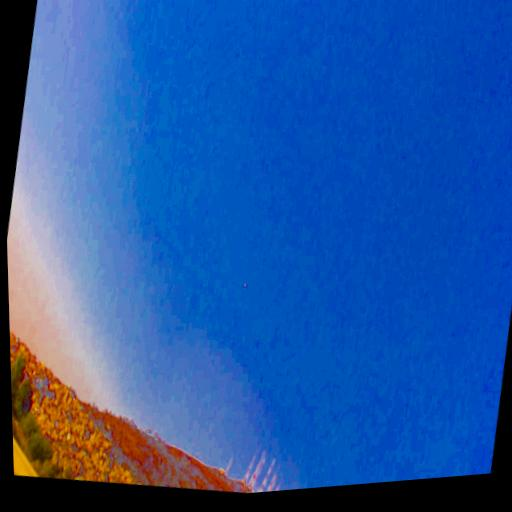drones: (241, 280, 249, 289)
